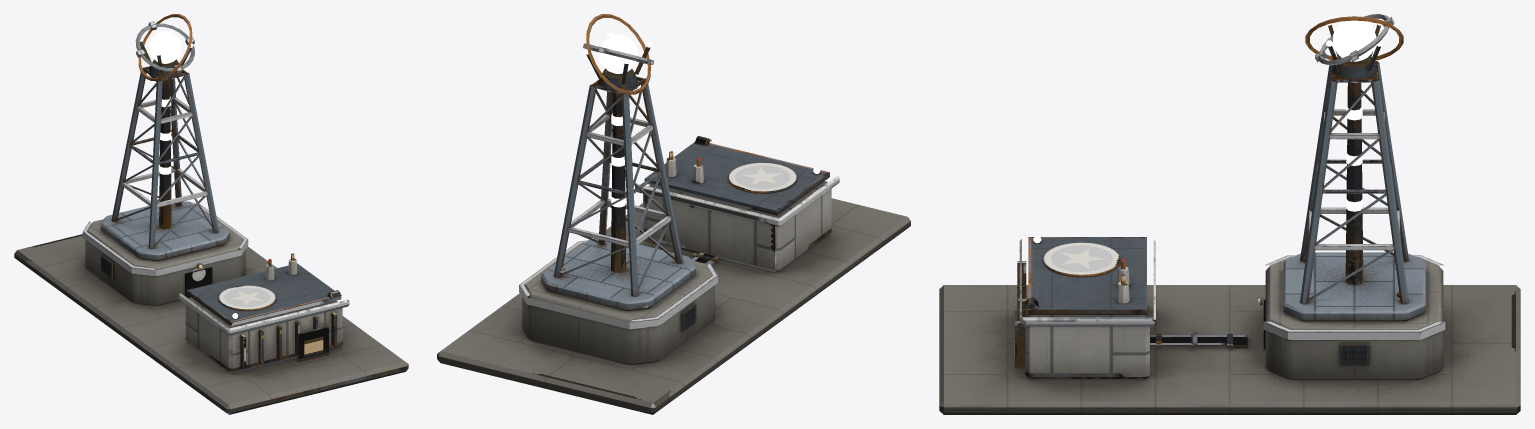
Rendered from gap.allies.glb.
3 views of the same model, side by side, from view 1: azimuth 30°, elevation 25°; view 2: azimuth 150°, elevation 25°; view 3: azimuth 270°, elevation 25° (orthographic). The views are drawn at different scales.
Visible parts, largest first — view 1: root_mesh, tower_mesh, ringA_mesh, ringB_mesh; view 2: root_mesh, tower_mesh, ringB_mesh; view 3: root_mesh, tower_mesh, ringA_mesh, ringB_mesh.
Part boxes in pixels (x1,y1,x2,y2): root_mesh: (14, 234, 408, 414); tower_mesh: (82, 29, 248, 305); ringA_mesh: (135, 21, 194, 73); ringB_mesh: (138, 14, 192, 80); root_mesh: (437, 136, 910, 414); tower_mesh: (519, 32, 717, 364); ringB_mesh: (586, 14, 650, 94); root_mesh: (939, 235, 1520, 414); tower_mesh: (1257, 19, 1445, 379); ringA_mesh: (1315, 14, 1394, 65); ringB_mesh: (1305, 16, 1403, 60).
Size of the model in its own units: 0.96 by 1.31 by 1.96.
3 materials, 1 textured.
